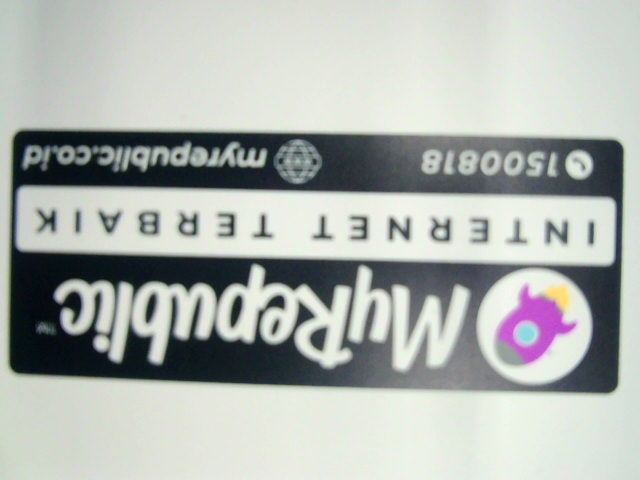BD_MyRepublic: (13, 118, 626, 398)
